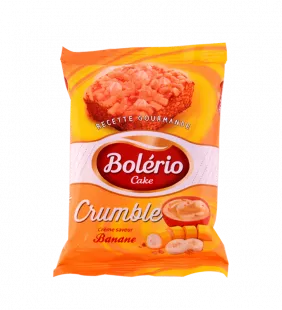BOLERIO: (44, 36, 237, 285)
